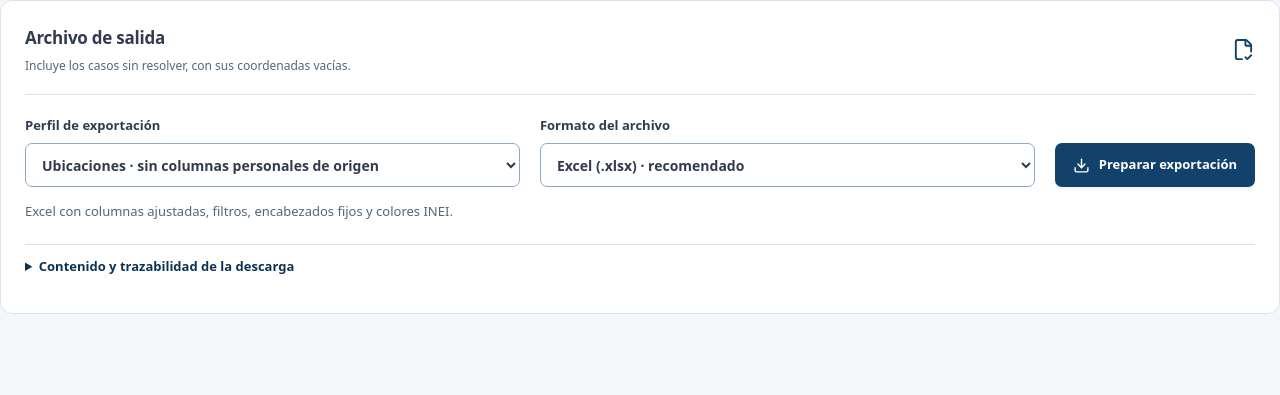
Scenario: spreadsheet export formats › lets an authorized operator explicitly choose CSV and source rows
Select "CSV (.csv) · para GIS" in the dropdown labelled "Formato del archivo": (787, 165) [540,143,1035,187]
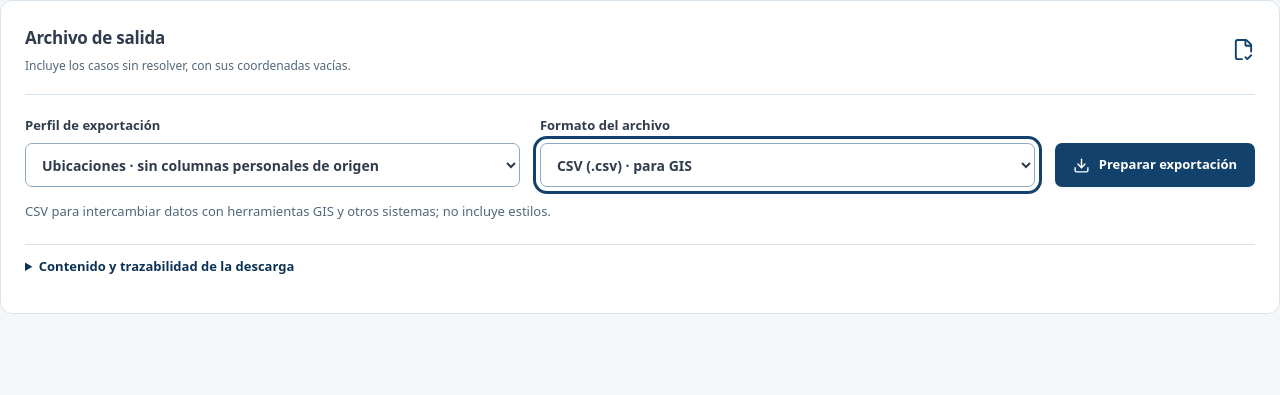
Select "Filas originales y resultados · acceso restringido" in the dropdown labelled "Perfil de exportación": (272, 165) [25,143,520,187]
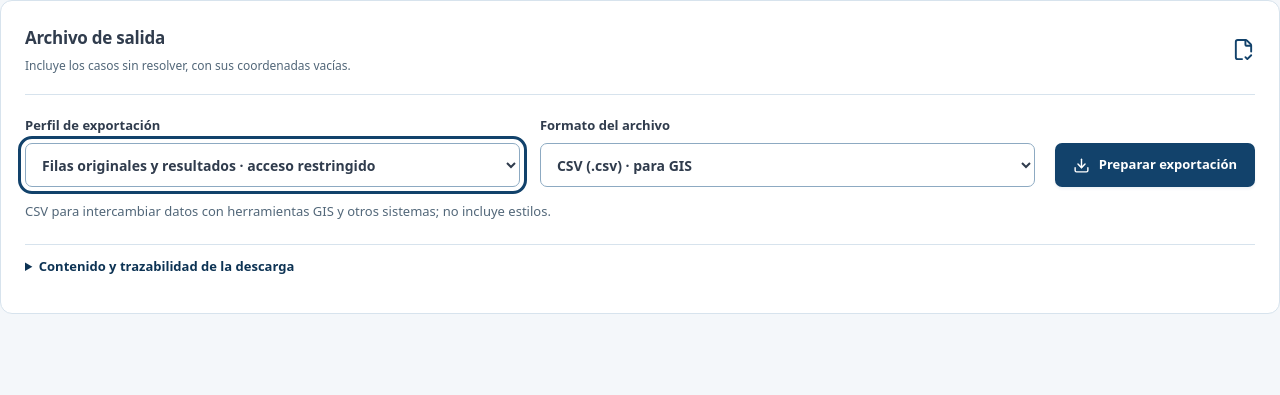
Click the button "Preparar exportación": (1155, 165) [1055,143,1255,187]
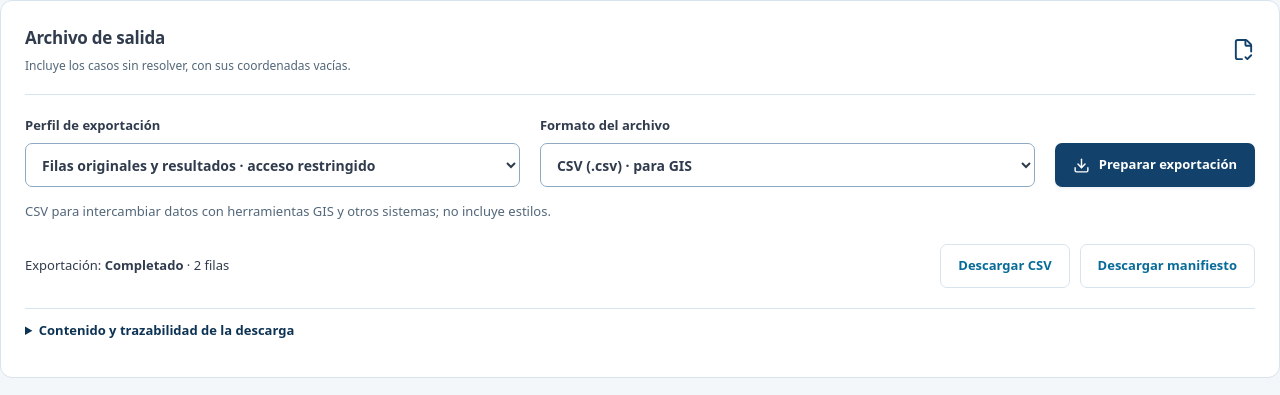
Now the button "Descargar CSV" is shown, box [940,244,1070,288]
